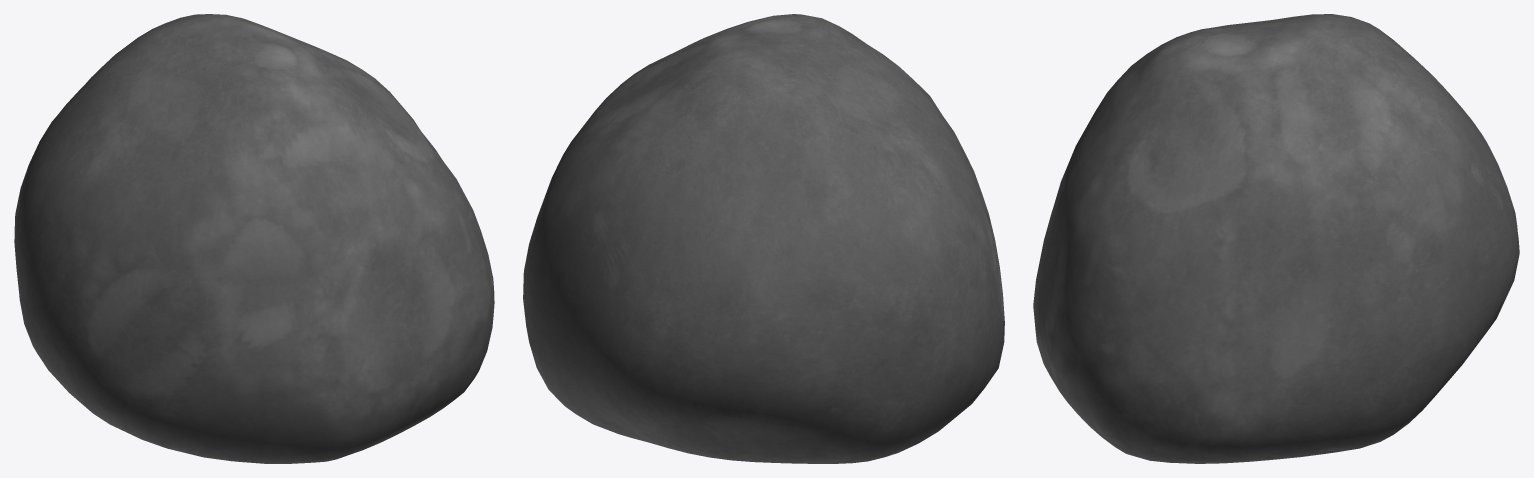
Rendered from Rock.fbx.
3 renders of one model, left to right at view 1: azimuth 30°, elevation 25°; view 2: azimuth 150°, elevation 25°; view 3: azimuth 270°, elevation 25°, orthographic. The views are drawn at different scales.
Visible parts, largest first — view 1: Rock; view 2: Rock; view 3: Rock.
Boxes of the visible parts, x1,y1,x2,y2 form: Rock: (14,14,494,463); Rock: (523,14,1004,463); Rock: (1033,14,1519,463).
Bounding box in the file's own units: 16.79 × 14.45 × 16.96.
Materials: 1 (1 with a texture image).
